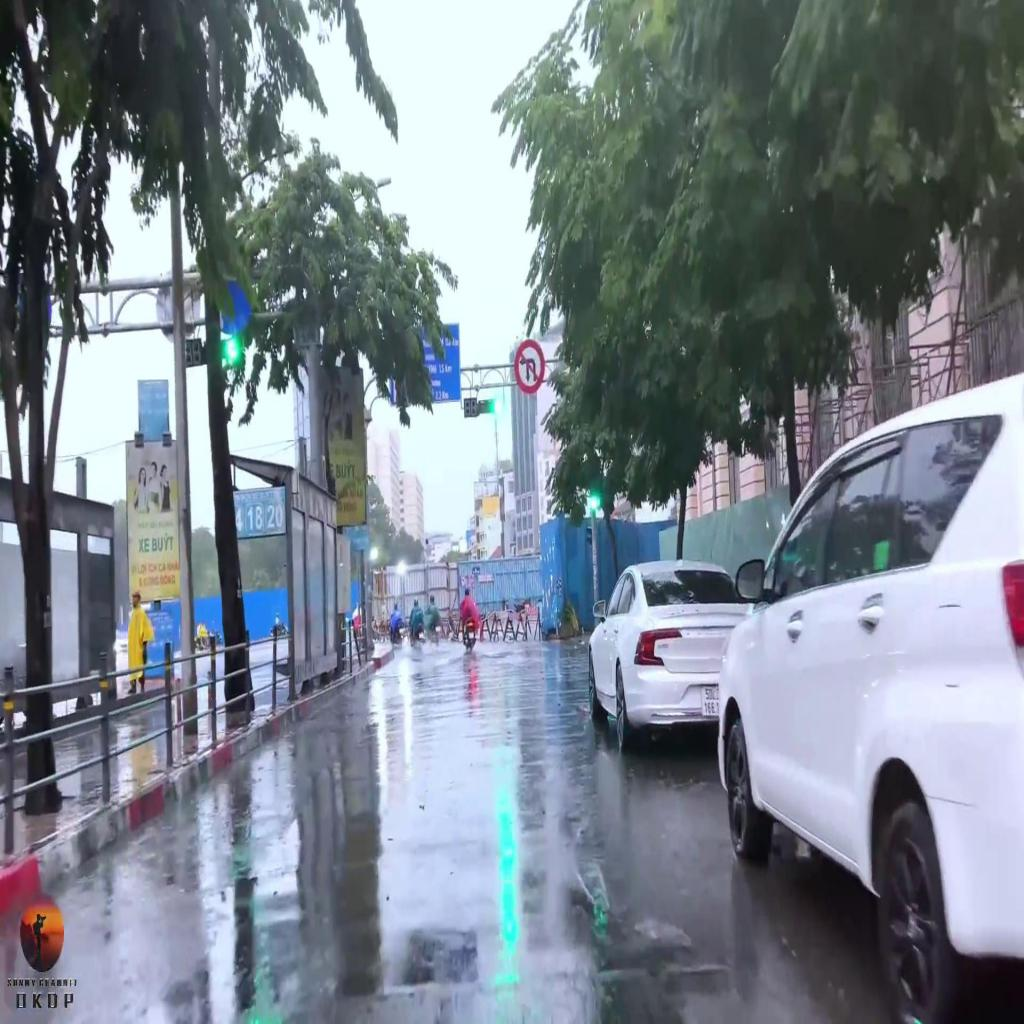khac: (514, 338, 544, 394)
